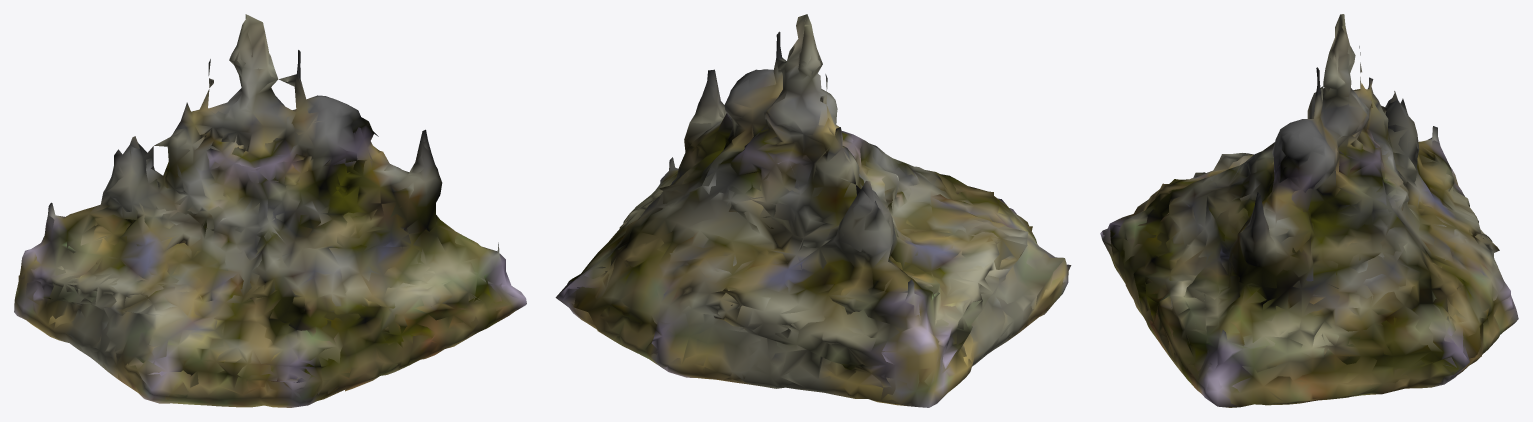
Rendered from transylvania_fortress.glb.
3 renders of one model, left to right at view 1: azimuth 30°, elevation 25°; view 2: azimuth 150°, elevation 25°; view 3: azimuth 270°, elevation 25°, orthographic. The views are drawn at different scales.
Parts seen in each view (by area): view 1: transylvania_fortress; view 2: transylvania_fortress; view 3: transylvania_fortress.
Boxes of the visible parts, x1,y1,x2,y2 form: transylvania_fortress: [14, 14, 526, 407]; transylvania_fortress: [555, 14, 1071, 407]; transylvania_fortress: [1100, 14, 1518, 407].
Bounding box in the file's own units: 1.93 × 1.4 × 1.8.
